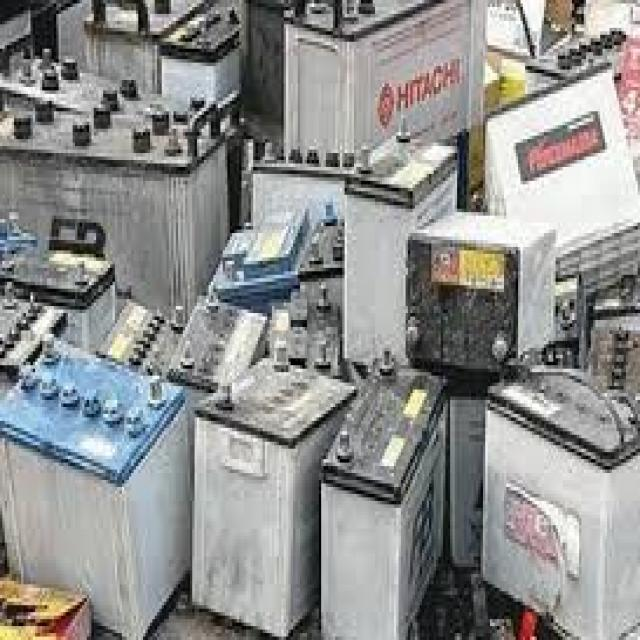non-organic waste: (0, 328, 189, 640), (0, 103, 228, 326), (193, 337, 358, 639), (489, 359, 640, 640), (287, 2, 487, 206), (325, 340, 451, 633), (343, 108, 458, 370), (404, 207, 556, 370)
